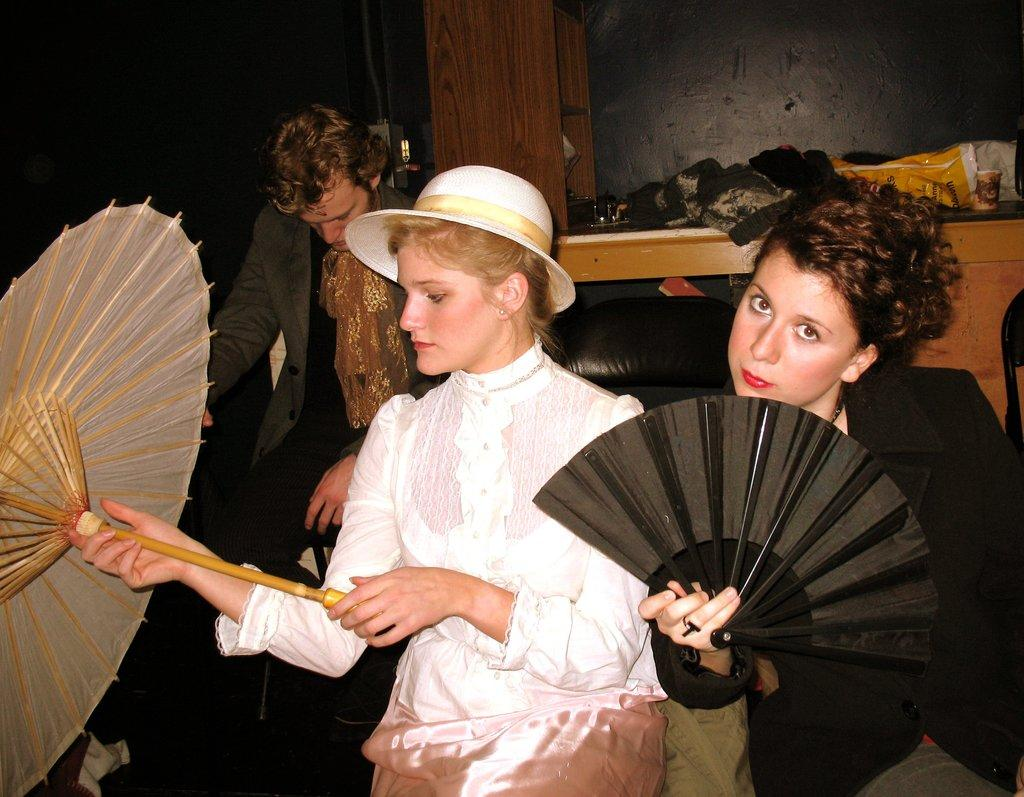Hat: (345, 166, 575, 318)
